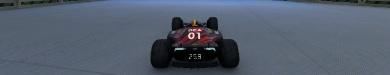Car: (149, 16, 239, 68)
curve: (0, 1, 389, 73)
obstacles-Borders: (0, 0, 105, 10)
